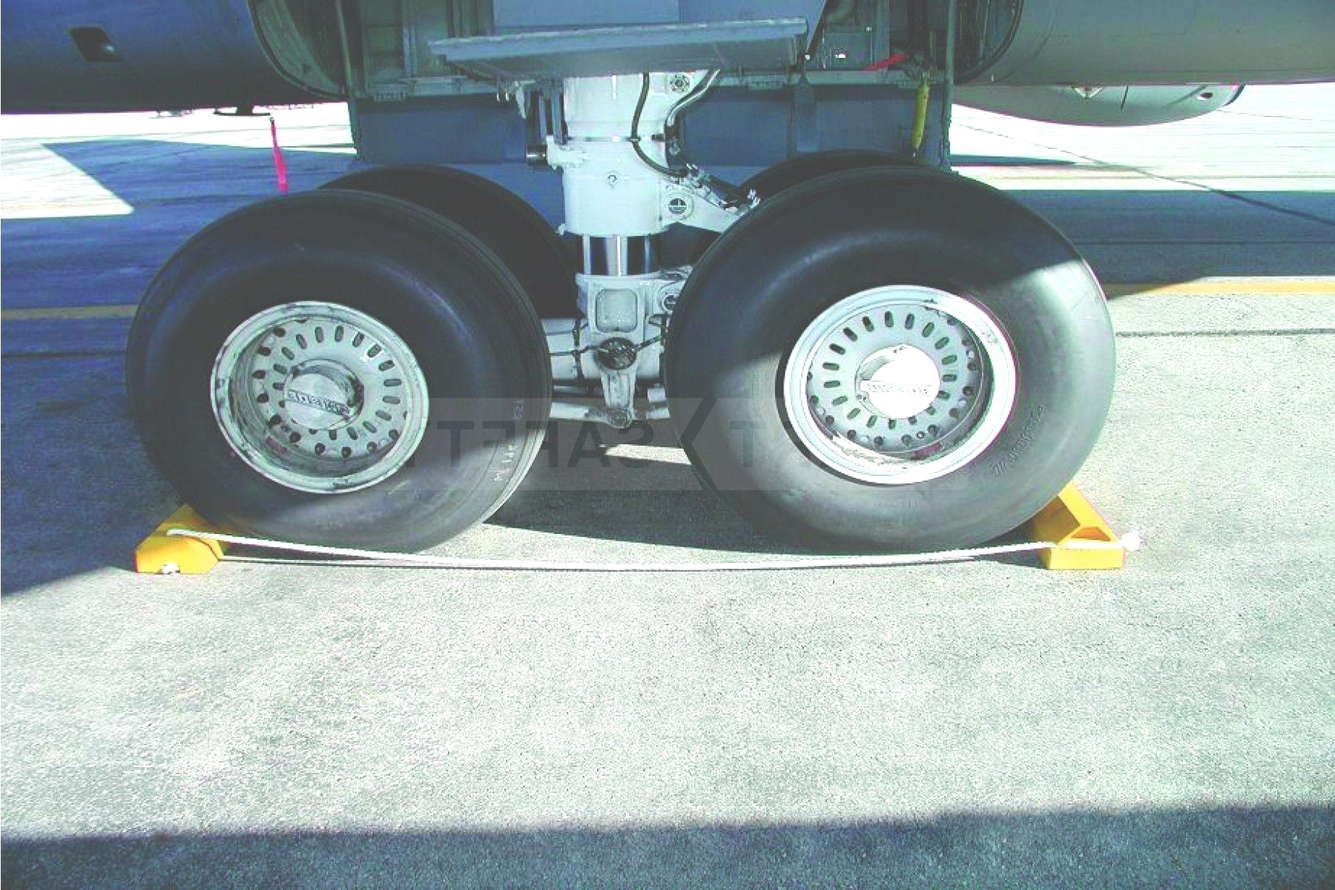chock: (1015, 452, 1124, 571), (127, 473, 239, 579)
wheel: (673, 157, 1118, 547), (130, 185, 556, 548), (317, 162, 579, 320), (728, 146, 933, 200)
